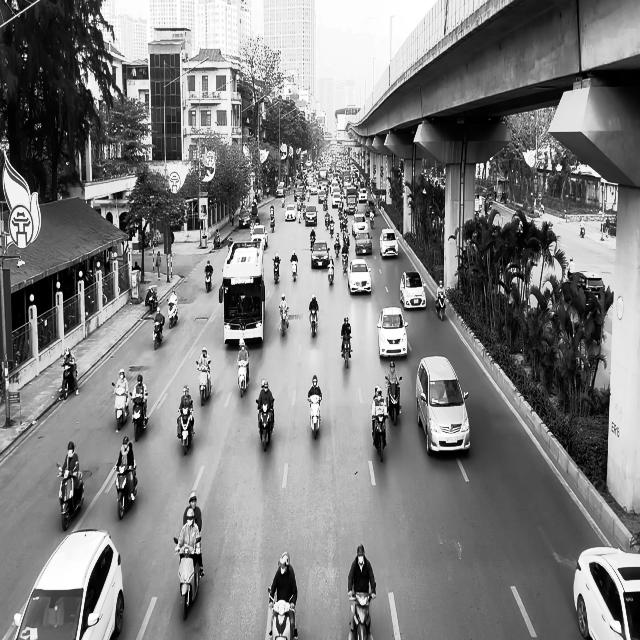bus: (220, 239, 265, 345)
car: (14, 528, 124, 639), (573, 546, 640, 639), (416, 355, 470, 456), (377, 306, 408, 358), (399, 271, 426, 310), (347, 258, 371, 294), (379, 228, 399, 258), (311, 240, 330, 268), (250, 225, 268, 249), (355, 231, 372, 255)
motorbike: (173, 536, 203, 620), (56, 462, 84, 530), (267, 588, 297, 640), (115, 462, 138, 520), (348, 592, 375, 640), (256, 396, 274, 452), (384, 376, 402, 426), (131, 391, 148, 442), (111, 383, 129, 431), (372, 410, 388, 462), (177, 407, 194, 455), (58, 362, 78, 401), (196, 361, 212, 405), (308, 394, 321, 438), (237, 360, 249, 398), (340, 334, 352, 368), (152, 318, 164, 350), (145, 285, 158, 312), (167, 298, 178, 328), (278, 306, 288, 336), (435, 295, 446, 320), (309, 308, 318, 337), (327, 257, 335, 285), (205, 266, 212, 292), (273, 258, 280, 284), (290, 259, 298, 281)
